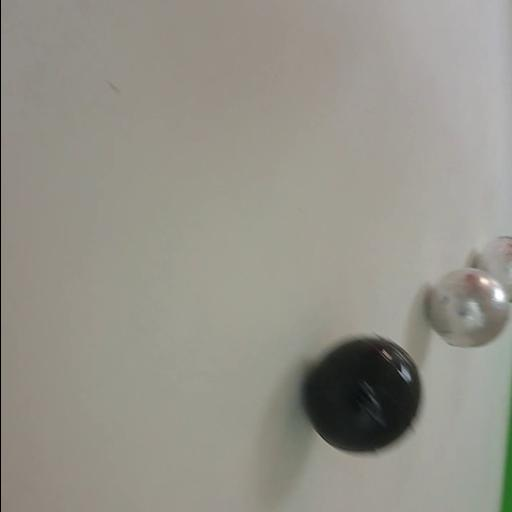alive: (425, 267, 509, 349), (470, 236, 512, 300)
dead: (301, 332, 425, 458)
